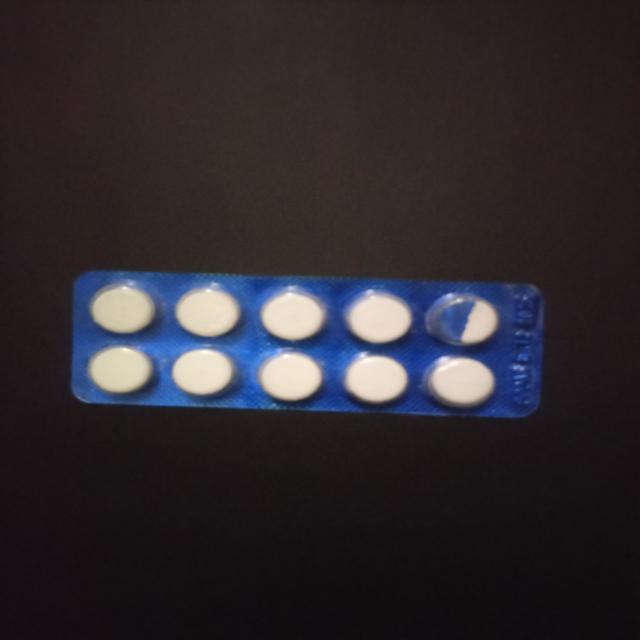defect: (423, 289, 502, 350)
